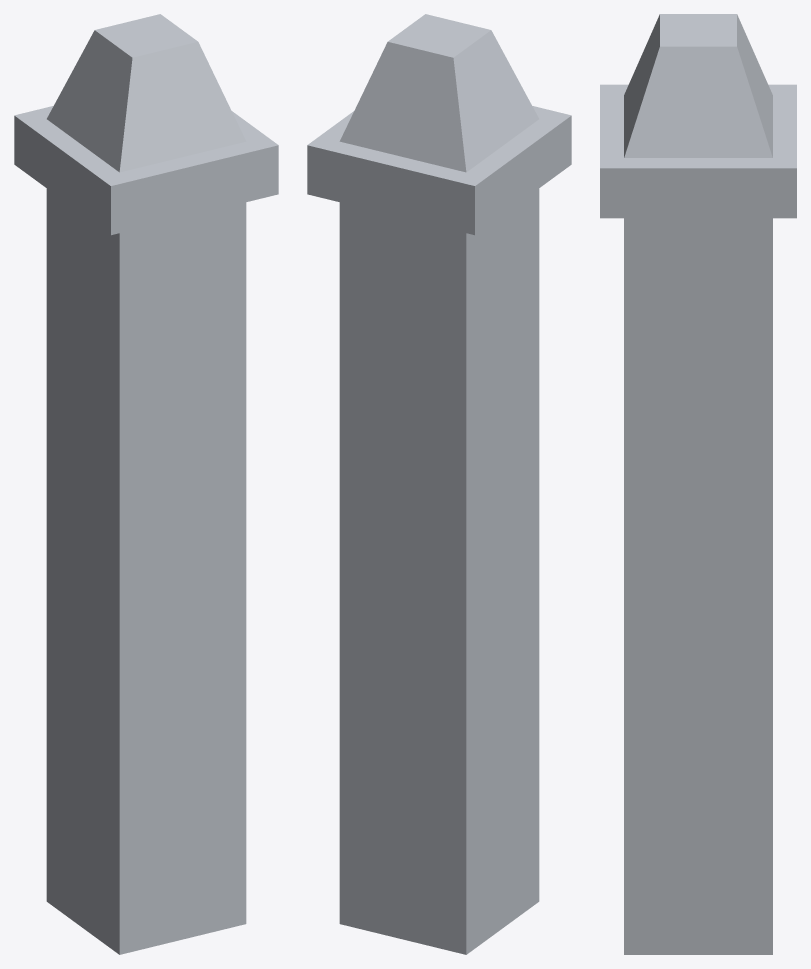
File: Building_Objects_Fence_Corner.fbx
3 views of the same model, side by side, from view 1: azimuth 30°, elevation 25°; view 2: azimuth 150°, elevation 25°; view 3: azimuth 270°, elevation 25° (orthographic).
Parts seen in each view (by area): view 1: Building_Objects_Fence_Corner; view 2: Building_Objects_Fence_Corner; view 3: Building_Objects_Fence_Corner.
Part boxes in pixels (<box>): Building_Objects_Fence_Corner: <box>14,14,278,954</box>; Building_Objects_Fence_Corner: <box>307,14,571,954</box>; Building_Objects_Fence_Corner: <box>600,14,796,954</box>.
Bounding box in the file's own units: 25.67 × 128 × 25.62.
